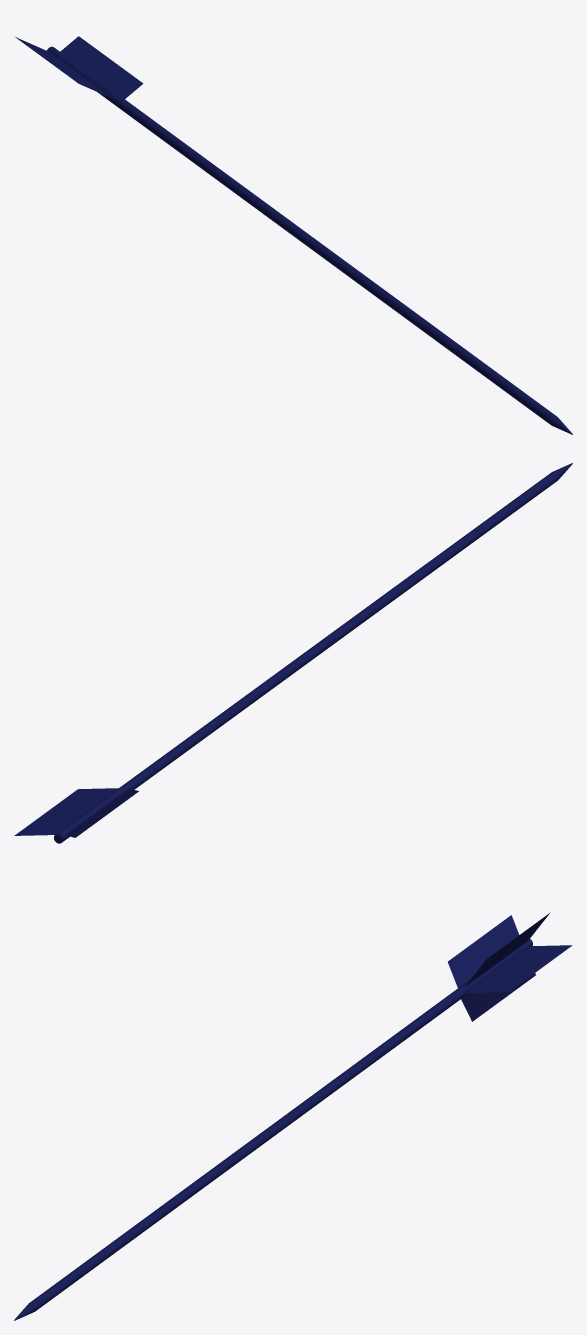
File: arrow.fbx
The picture shows the model from 3 angles, top to bottom: view 1: azimuth 30°, elevation 25°; view 2: azimuth 150°, elevation 25°; view 3: azimuth 330°, elevation 25°; orthographic projection.
Visible parts, largest first — view 1: Cylinder; view 2: Cylinder; view 3: Cylinder.
Part boxes in pixels (<box>): Cylinder: <box>14,36,572,434</box>; Cylinder: <box>14,463,572,843</box>; Cylinder: <box>14,912,572,1320</box>.
Bounding box in the file's own units: 21.64 × 21.63 × 314.
